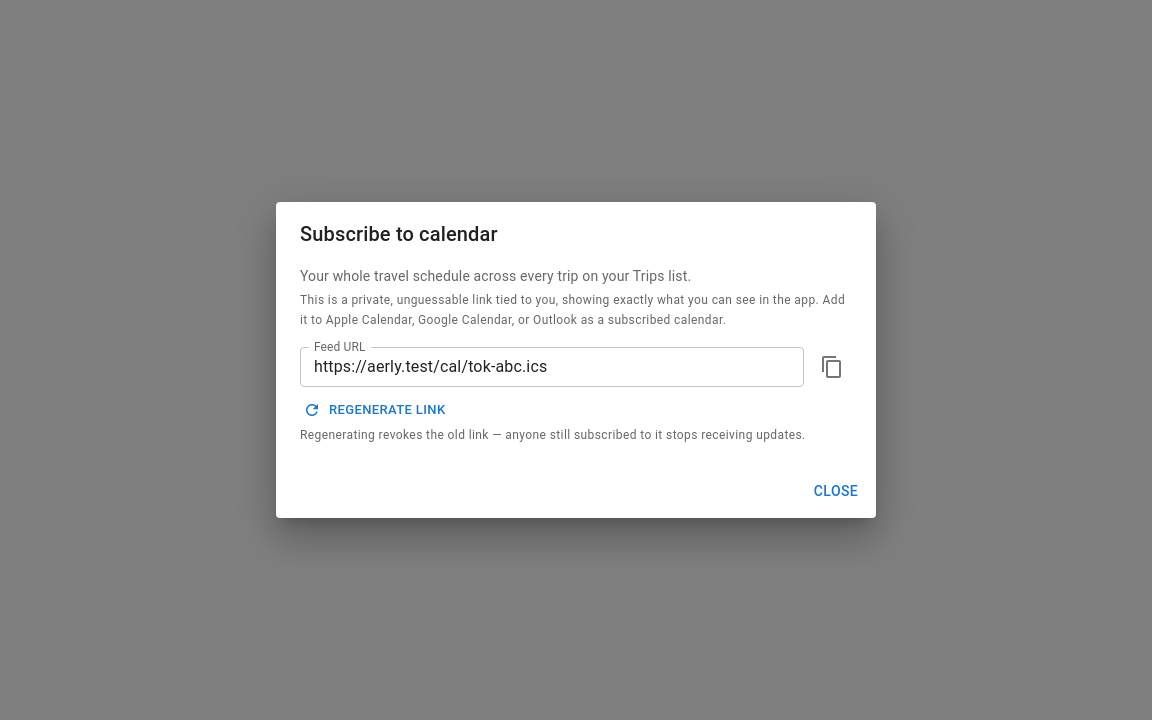
Scenario: CalendarSubscribeDialog › regenerate revokes the old token then issues a fresh one
Check: the field labelled "Feed URL" is shown, box [300,347,804,387]
Click the button "Regenerate link" at (375,410), box [300,395,450,426]
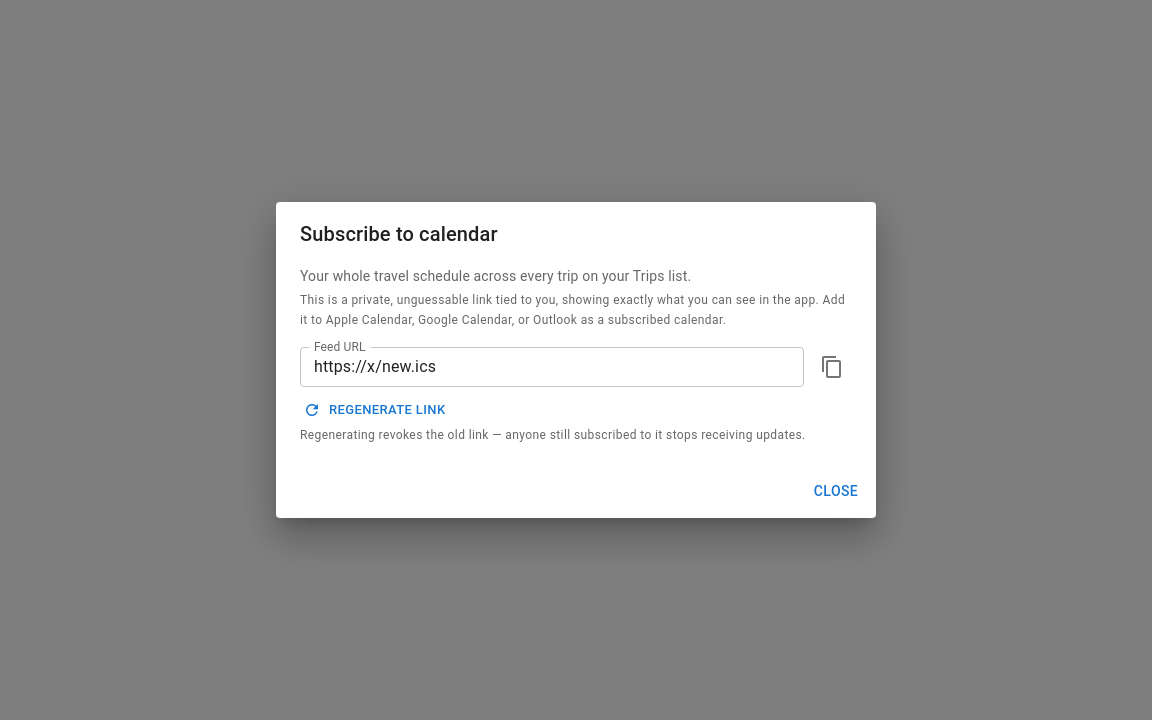
Check: the field labelled "Feed URL" holds "https://x/new.ics", box [300,347,804,387]
